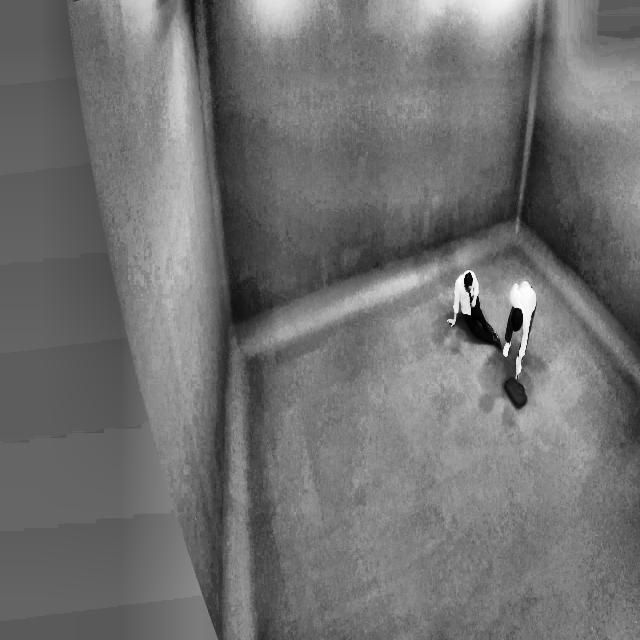assult: (445, 253, 547, 384), (448, 262, 507, 361)
